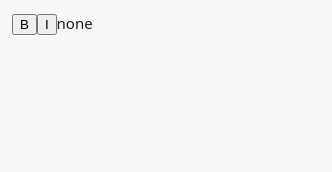
Test: keyboard and mouse event types › distinguishes target from currentTarget
Type keys "{Shift>}"
Click the button "I". click: x=47, y=24
box: [37,14,57,35]
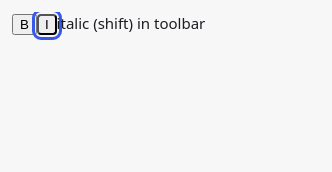
Check: the text "italic (shift) in toolbar" is shown, box [57,13,205,33]
